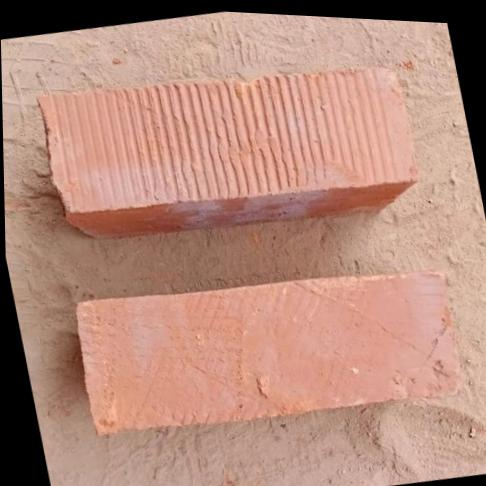brick: (69, 238, 473, 458), (31, 28, 421, 241)
